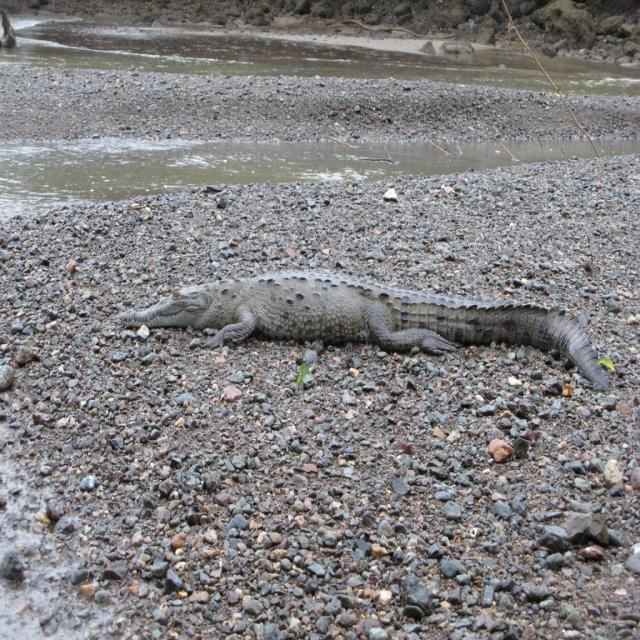crocodile: (87, 258, 635, 408)
